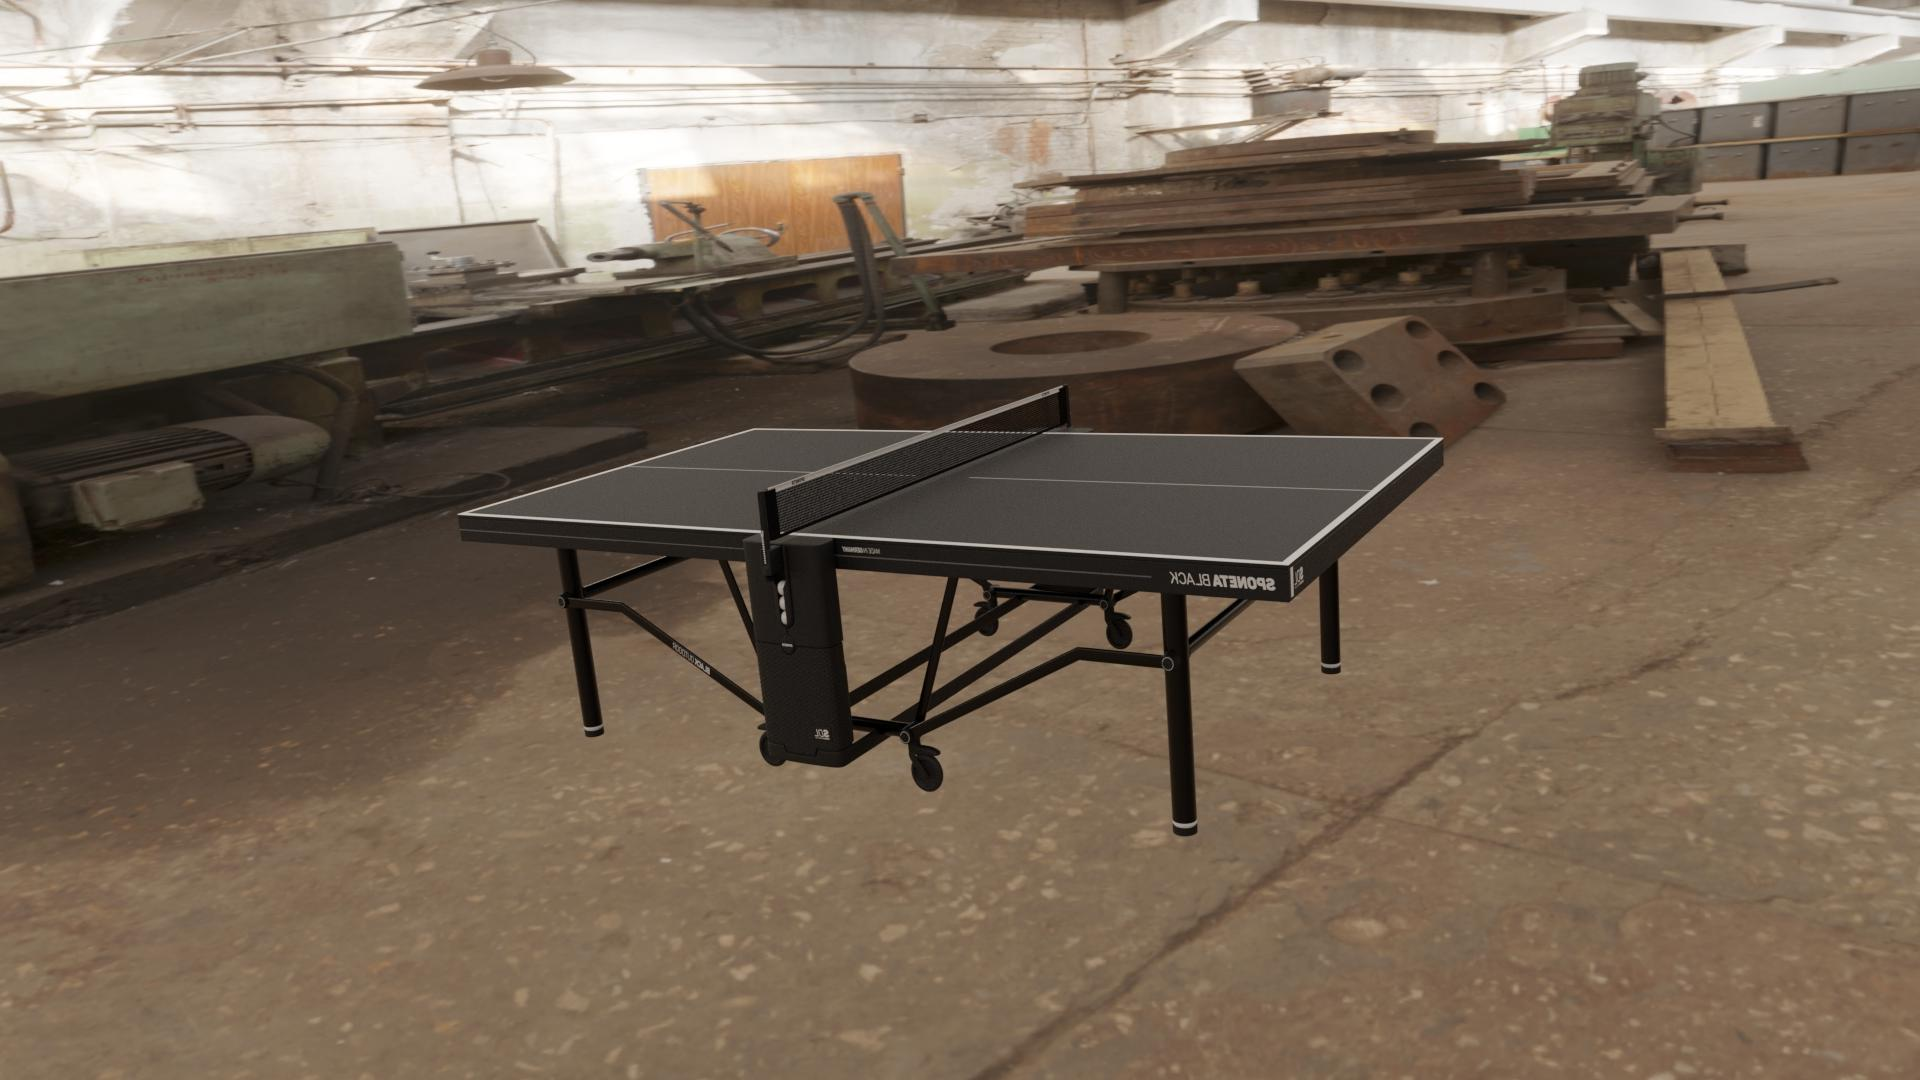table: (467, 430, 1436, 562)
